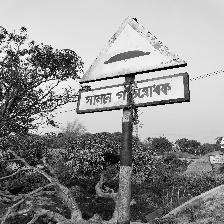Speed-breaker: (77, 16, 190, 114)
